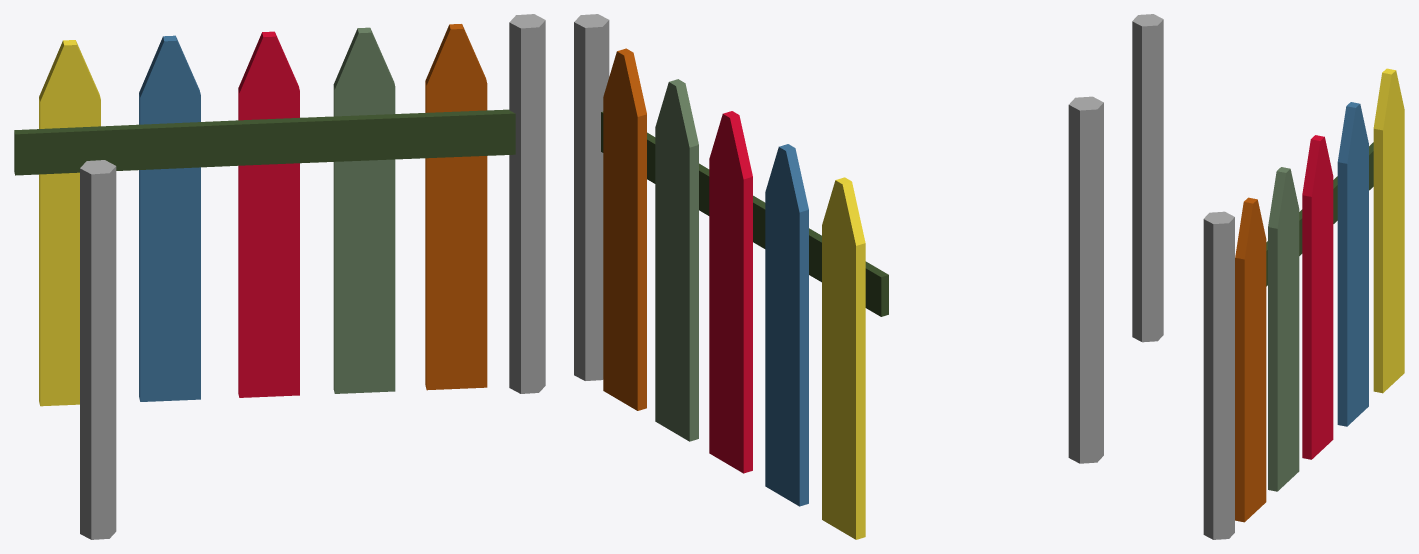
The model's file is Playground Entrance.fbx.
3 renders of one model, left to right at view 1: azimuth 30°, elevation 25°; view 2: azimuth 150°, elevation 25°; view 3: azimuth 270°, elevation 25°, orthographic. The views are drawn at different scales.
Visible parts, largest first — view 1: Playground Entrance; view 2: Playground Entrance; view 3: Playground Entrance.
Part boxes in pixels (x1,y1,x2,y2): Playground Entrance: (14, 14, 545, 539); Playground Entrance: (574, 14, 1103, 539); Playground Entrance: (1132, 14, 1404, 539).
Bounding box in the file's own units: 277 × 151 × 194.
